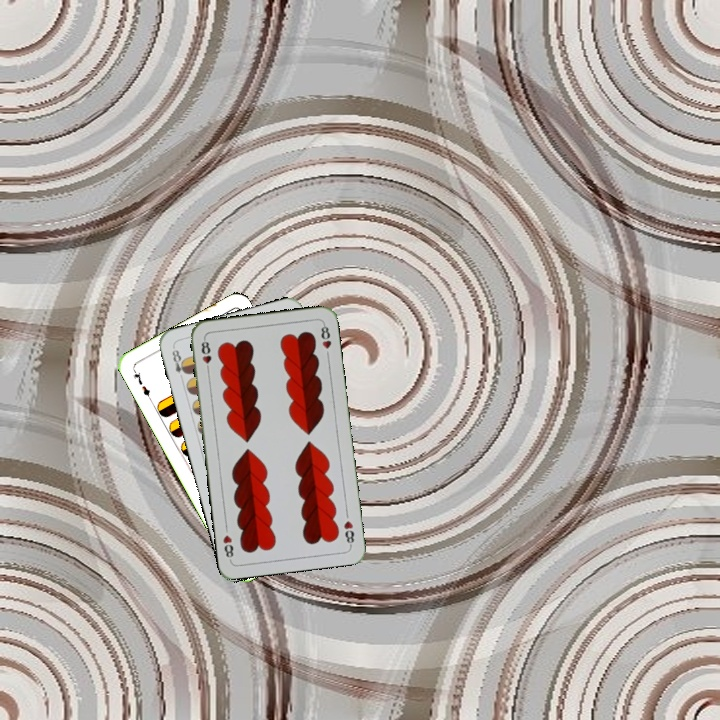E7: (129, 365, 154, 403)
E8: (168, 343, 190, 384)
H8: (197, 335, 214, 376), (340, 517, 357, 548)
